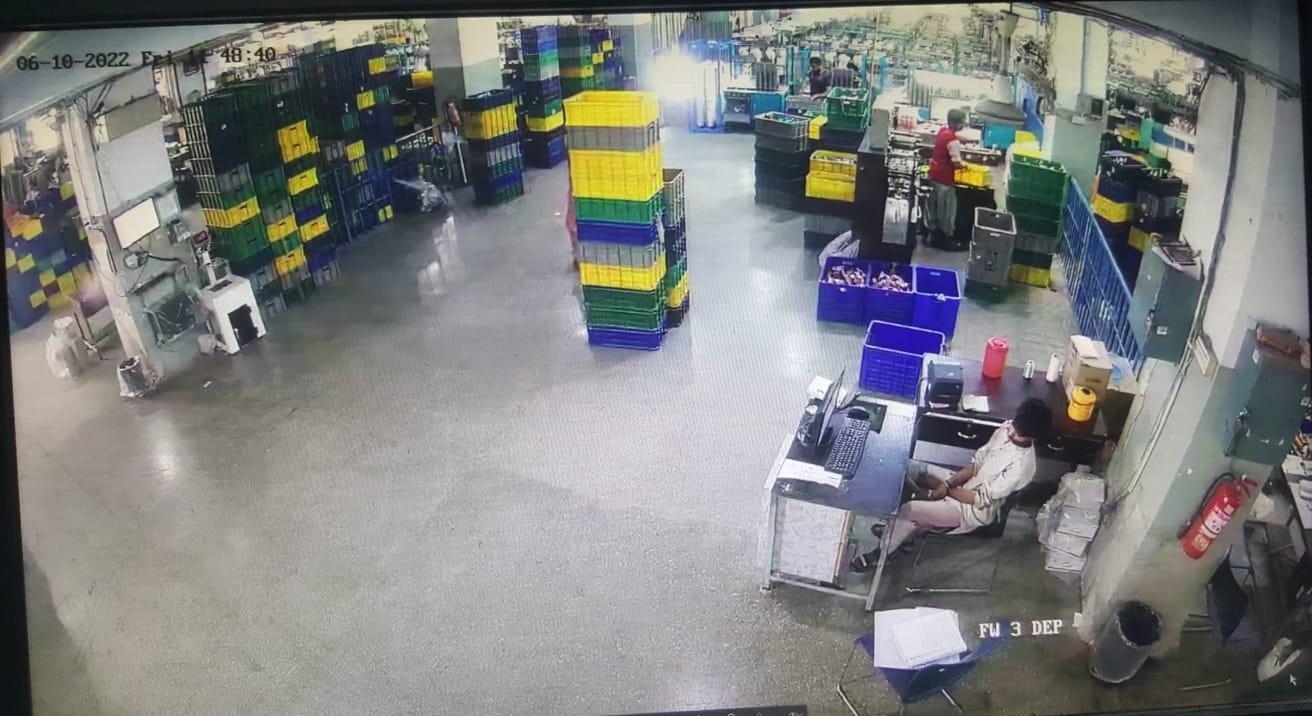person: (895, 400, 1054, 545), (925, 107, 972, 252)
